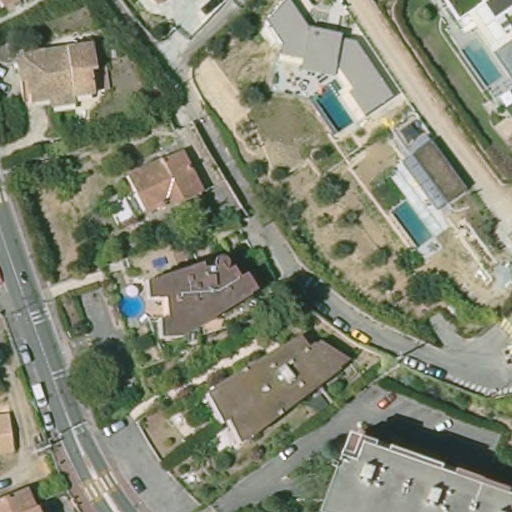pool: (305, 80, 358, 136), (385, 198, 435, 254), (457, 37, 506, 90), (111, 289, 152, 321)
